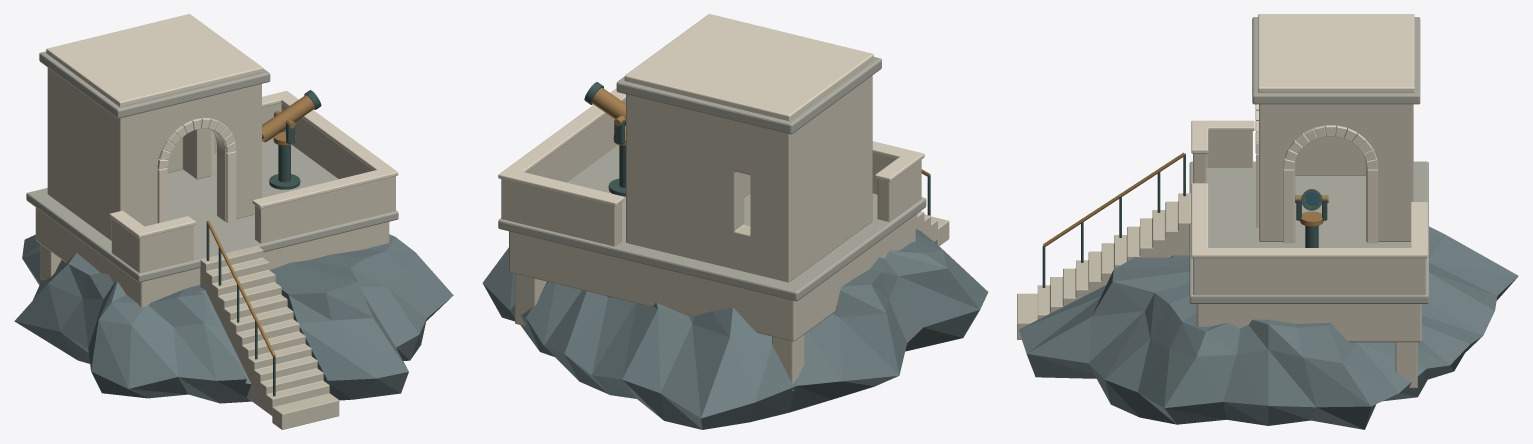
The model's file is limen.glb.
3 views of the same model, side by side, from view 1: azimuth 30°, elevation 25°; view 2: azimuth 150°, elevation 25°; view 3: azimuth 270°, elevation 25° (orthographic). The views are drawn at different scales.
Visible parts, largest first — view 1: Rock / single faceted outcrop, Hall / carved monolithic masonry, Roof / inset mineral cap, Access / twelve continuous stone steps, Terrace / continuous slab, Parapet / east continuous corner, Foundation / embedded load bearing plinth, Coping / east continuous corner, Parapet / west continuous corner, Roof / deep floating shadow eave, Access / lower arrival threshold, Coping / west continuous corner (+6 smaller); view 2: Rock / single faceted outcrop, Hall / carved monolithic masonry, Roof / inset mineral cap, Foundation / embedded load bearing plinth, Terrace / continuous slab, Parapet / east continuous corner, Roof / deep floating shadow eave, Coping / east continuous corner, Parapet / west continuous corner, Coping / west continuous corner, Foundation footing / -2.4 2.5, Foundation footing / 2.95 2.5 (+2 smaller); view 3: Rock / single faceted outcrop, Hall / carved monolithic masonry, Roof / inset mineral cap, Terrace / continuous slab, Parapet / east continuous corner, Access / twelve continuous stone steps, Foundation / embedded load bearing plinth, Coping / east continuous corner, Roof / deep floating shadow eave, Parapet / west continuous corner, Coping / west continuous corner, Foundation footing / 2.95 2.5 (+4 smaller).
Boxes of the visible parts, x1,y1,x2,y2 form: Rock / single faceted outcrop: (14, 234, 453, 403); Hall / carved monolithic masonry: (47, 67, 261, 240); Roof / inset mineral cap: (46, 14, 263, 106); Access / twelve continuous stone steps: (200, 246, 329, 415); Terrace / continuous slab: (26, 139, 398, 282); Parapet / east continuous corner: (214, 103, 395, 243); Foundation / embedded load bearing plinth: (35, 207, 389, 307); Coping / east continuous corner: (252, 91, 398, 208); Parapet / west continuous corner: (111, 219, 193, 272); Roof / deep floating shadow eave: (39, 51, 270, 118); Access / lower arrival threshold: (272, 393, 339, 429); Coping / west continuous corner: (109, 210, 195, 238); Rock / single faceted outcrop: (482, 229, 988, 429); Hall / carved monolithic masonry: (626, 75, 872, 282); Roof / inset mineral cap: (624, 14, 873, 120); Foundation / embedded load bearing plinth: (509, 215, 915, 341); Terrace / continuous slab: (498, 145, 926, 301); Parapet / east continuous corner: (501, 100, 625, 246); Roof / deep floating shadow eave: (616, 57, 881, 134); Coping / east continuous corner: (498, 88, 625, 206); Parapet / west continuous corner: (872, 153, 921, 221); Coping / west continuous corner: (872, 141, 924, 182); Foundation footing / -2.4 2.5: (772, 335, 804, 390); Foundation footing / 2.95 2.5: (515, 274, 546, 326); Rock / single faceted outcrop: (1019, 226, 1518, 429); Hall / carved monolithic masonry: (1259, 104, 1413, 241); Roof / inset mineral cap: (1258, 14, 1414, 92); Terrace / continuous slab: (1189, 161, 1428, 303); Parapet / east continuous corner: (1193, 258, 1425, 295); Access / twelve continuous stone steps: (1037, 193, 1190, 319); Foundation / embedded load bearing plinth: (1196, 304, 1421, 342); Coping / east continuous corner: (1191, 183, 1427, 258); Roof / deep floating shadow eave: (1252, 17, 1420, 104); Parapet / west continuous corner: (1193, 131, 1252, 183); Coping / west continuous corner: (1191, 120, 1254, 153); Foundation footing / 2.95 2.5: (1395, 342, 1417, 388).
Size of the model in its own units: 8.45 by 6.11 by 9.81.
